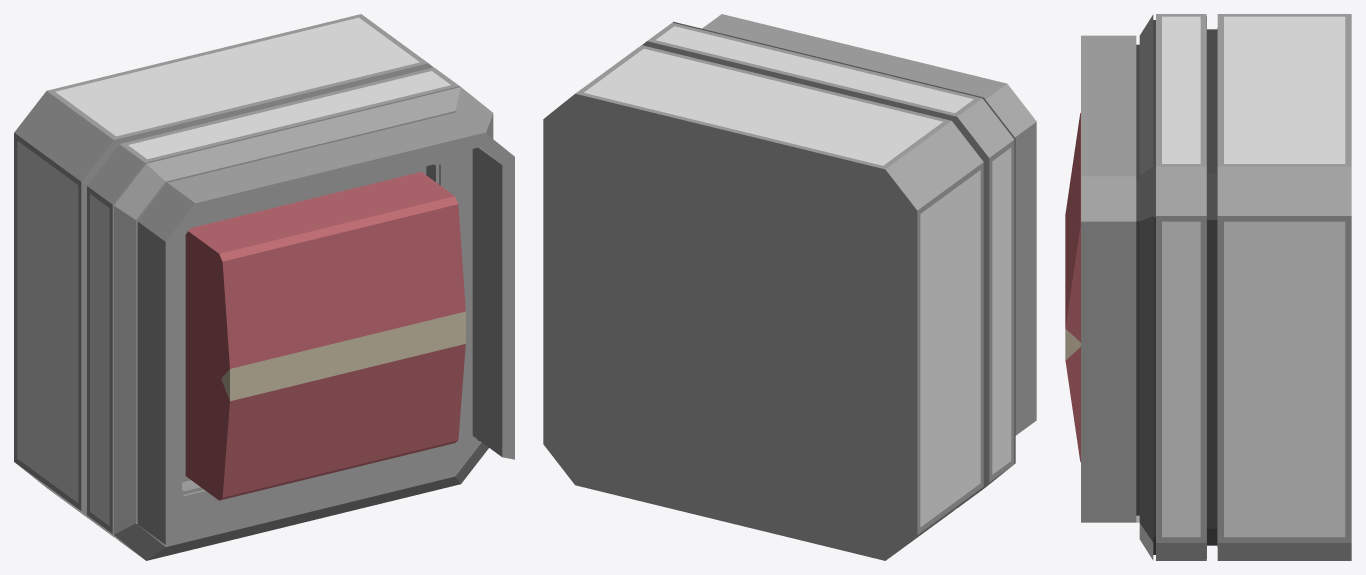
Rendered from Switch2.fbx.
3 renders of one model, left to right at view 1: azimuth 30°, elevation 25°; view 2: azimuth 150°, elevation 25°; view 3: azimuth 270°, elevation 25°, orthographic.
Visible parts, largest first — view 1: Switch_Button_Covered_Base, Switch_Button_Covered; view 2: Switch_Button_Covered_Base; view 3: Switch_Button_Covered_Base, Switch_Button_Covered.
Part boxes in pixels (box(x1,y1,x2,y2)): Switch_Button_Covered_Base: box(14, 14, 514, 560); Switch_Button_Covered: box(185, 172, 465, 500); Switch_Button_Covered_Base: box(543, 14, 1036, 560); Switch_Button_Covered_Base: box(1081, 14, 1351, 560); Switch_Button_Covered: box(1065, 113, 1080, 461).
Bounding box in the file's own units: 200 × 200 × 131.
